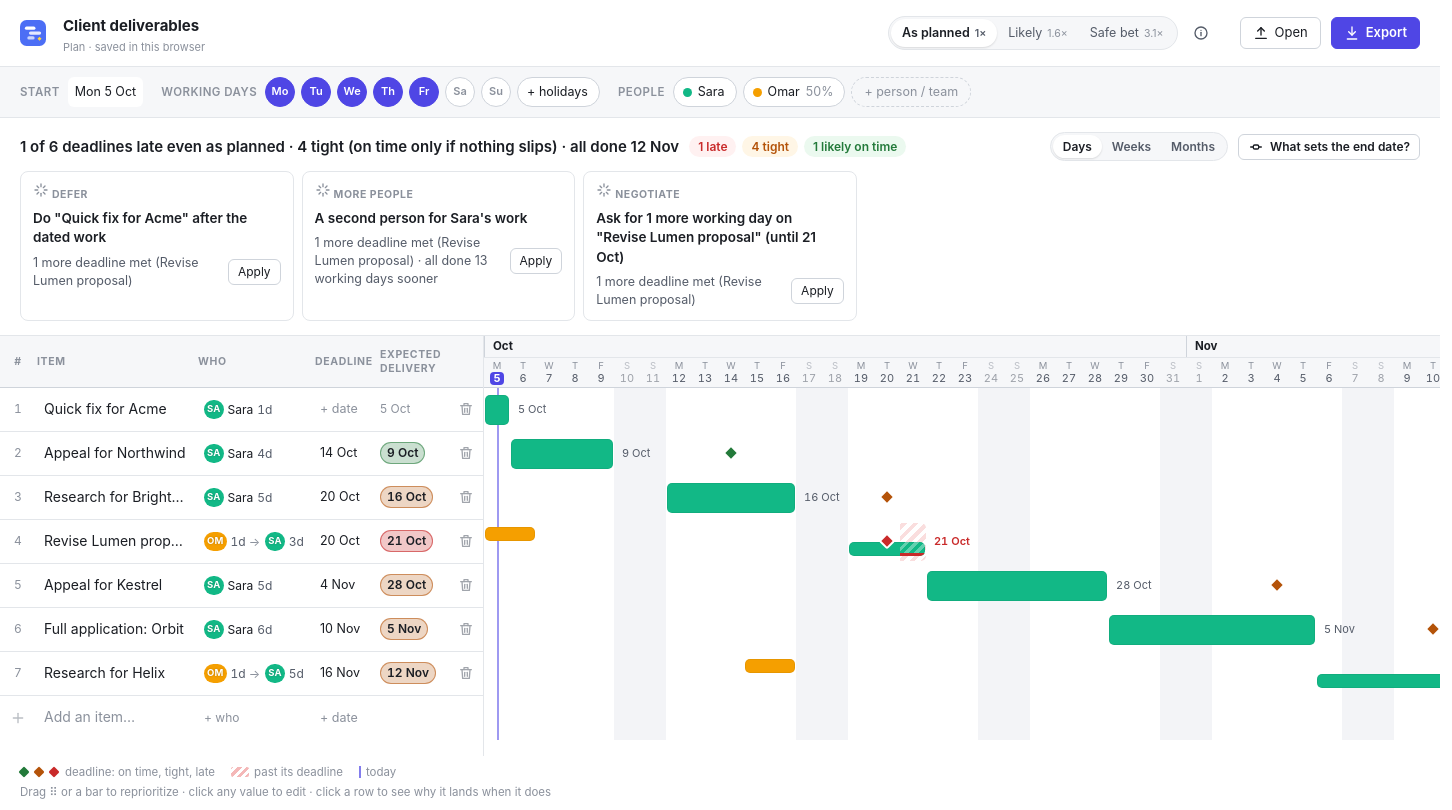
Test: people, deleting and the details pane › the details pane has no move or delete buttons
Click the element with class "status" showing "5 Oct": (395, 409) [380,401,410,416]
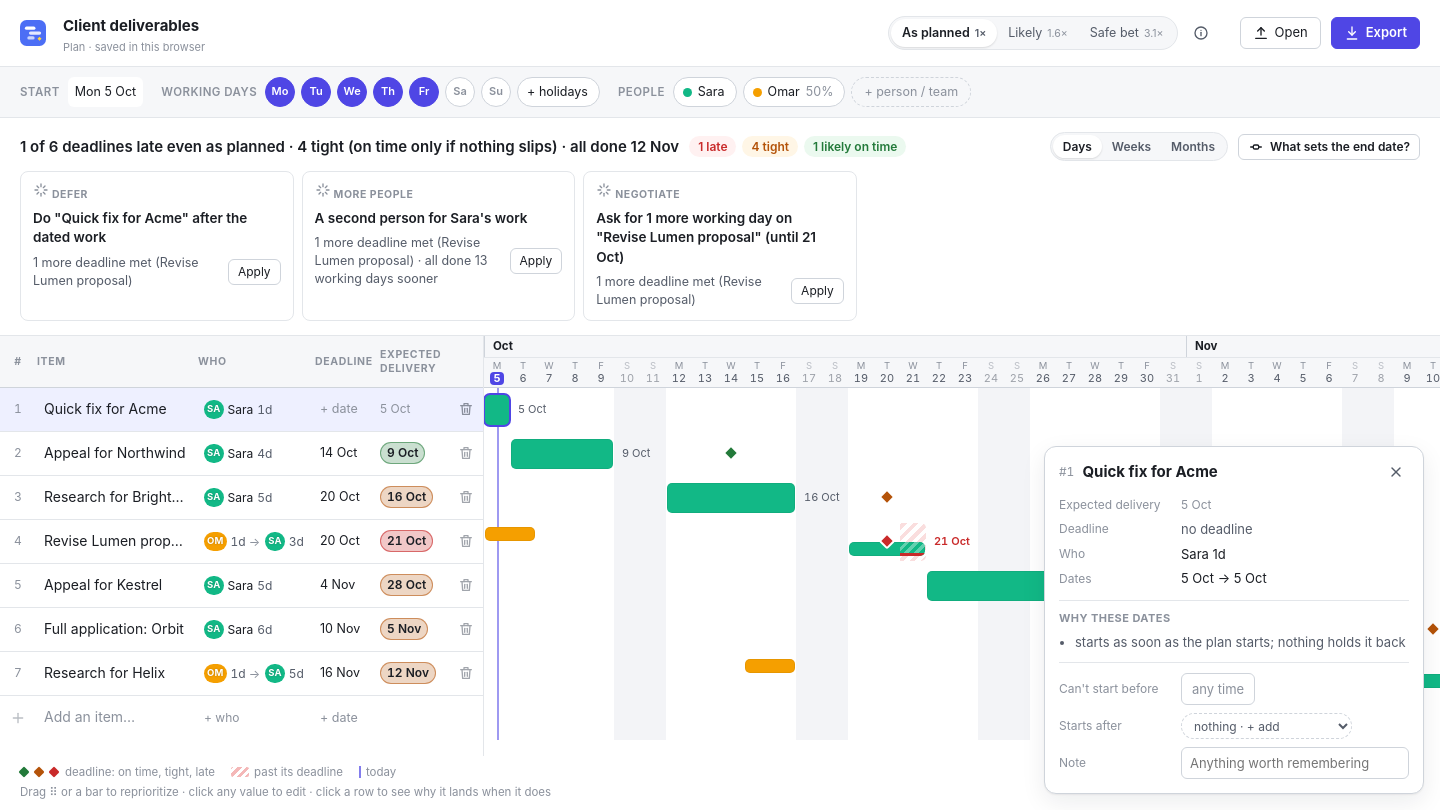
Expected: the element with class "details" shows "Why these dates", [1059,611,1171,625]
